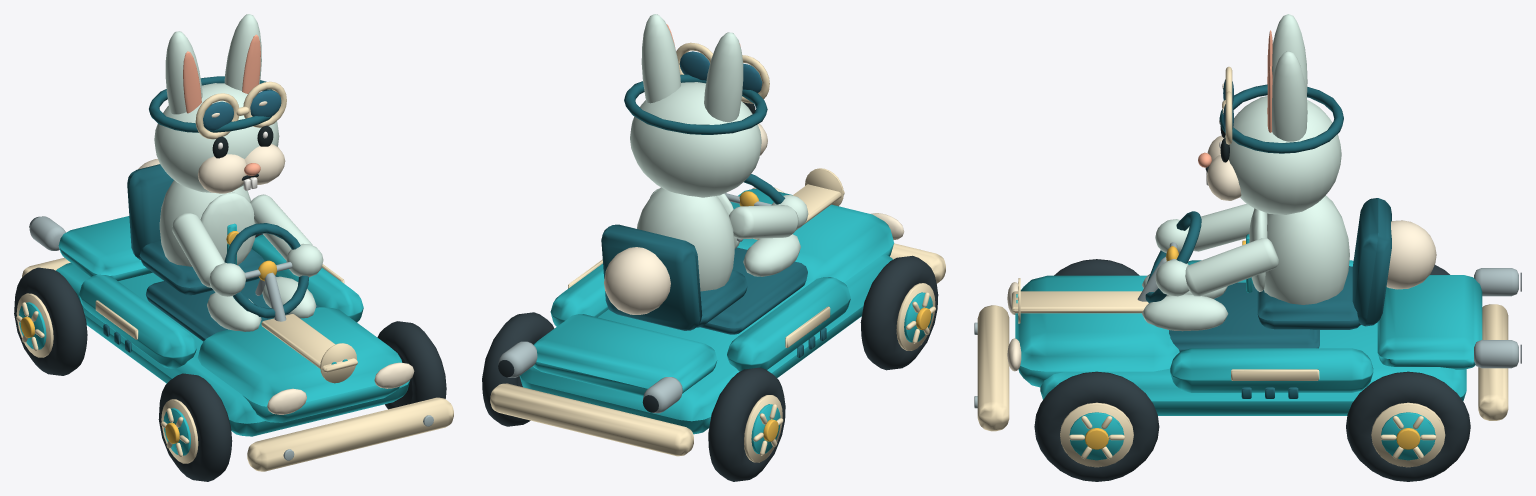
The model's file is kart-rabbit.glb.
The picture shows the model from 3 angles, left to right: view 1: azimuth 30°, elevation 25°; view 2: azimuth 150°, elevation 25°; view 3: azimuth 270°, elevation 25°; orthographic projection. The views are drawn at different scales.
Parts seen in each view (by area): view 1: Nose, FrontBumper, Chassis, SidePod-1, RabbitHead, TireRearL, TireFrontL, RearDeck, TireFrontR, SeatBack, Footwell, SidePod1 (+32 smaller); view 2: RearDeck, RabbitHead, Chassis, RearBumper, Nose, RabbitBody, SeatBack, SidePod-1, TireRearL, TireFrontL, RabbitCottonTail, Footwell (+19 smaller); view 3: Nose, RearDeck, Chassis, RabbitHead, SidePod1, RabbitBody, TireFrontR, TireRearR, Footwell, SeatBack, FrontBumper, SeatBase (+22 smaller).
Part boxes in pixels (box(x1,y1,x2,y2)): Nose: box(197, 307, 402, 422); FrontBumper: box(247, 397, 453, 471); Chassis: box(56, 262, 410, 436); SidePod-1: box(79, 274, 196, 368); RabbitHead: box(154, 83, 279, 192); TireRearL: box(14, 267, 87, 375); TireFrontL: box(158, 373, 232, 481); RearDeck: box(58, 216, 152, 280); TireFrontR: box(377, 321, 446, 409); SeatBack: box(127, 164, 173, 259); Footwell: box(146, 275, 319, 341); SidePod1: box(251, 234, 363, 322); RearDeck: box(533, 314, 717, 396); RabbitHead: box(630, 82, 761, 197); Chassis: box(519, 254, 892, 434); RearBumper: box(490, 383, 693, 456); Nose: box(730, 188, 893, 291); RabbitBody: box(637, 187, 734, 291); SeatBack: box(601, 224, 702, 330); SidePod-1: box(727, 277, 850, 371); TireRearL: box(708, 367, 785, 481); TireFrontL: box(860, 255, 938, 370); RabbitCottonTail: box(604, 247, 670, 314); Footwell: box(700, 247, 807, 334); Nose: box(1015, 275, 1179, 387); RearDeck: box(1377, 275, 1482, 369); Chassis: box(1040, 322, 1466, 415); RabbitHead: box(1224, 96, 1341, 214); SidePod1: box(1170, 348, 1373, 392); RabbitBody: box(1264, 195, 1349, 304); TireFrontR: box(1034, 371, 1159, 481); TireRearR: box(1346, 371, 1470, 481); Footwell: box(1169, 282, 1319, 351); SeatBack: box(1352, 198, 1391, 326); FrontBumper: box(977, 305, 1009, 431); SeatBase: box(1257, 266, 1360, 329).
Size of the model in its own units: 2 by 2.63 by 3.33.
